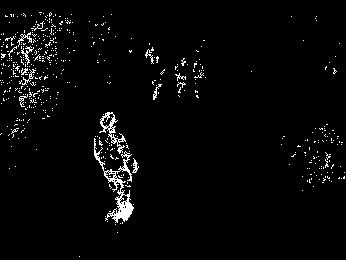person: (94, 109, 139, 224)
